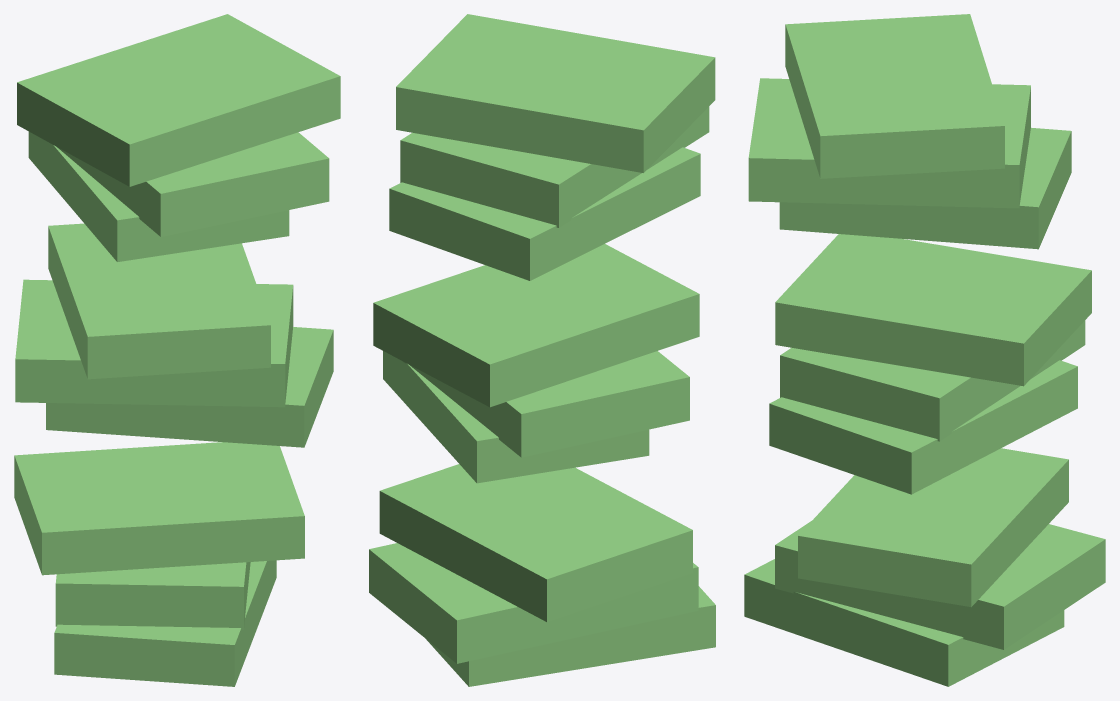
The model's file is Book_Pile_04B_Lod0.fbx.
3 views of the same model, side by side, from view 1: azimuth 30°, elevation 25°; view 2: azimuth 150°, elevation 25°; view 3: azimuth 270°, elevation 25° (orthographic).
Visible parts, largest first — view 1: Book_Pile_04B_Lod0; view 2: Book_Pile_04B_Lod0; view 3: Book_Pile_04B_Lod0.
Boxes of the visible parts, left/top/right/bottom form: Book_Pile_04B_Lod0: left=14, top=14, right=340, bottom=686; Book_Pile_04B_Lod0: left=369, top=14, right=715, bottom=686; Book_Pile_04B_Lod0: left=744, top=14, right=1105, bottom=686.
Bounding box in the file's own units: 34.71 × 58.41 × 34.71.
